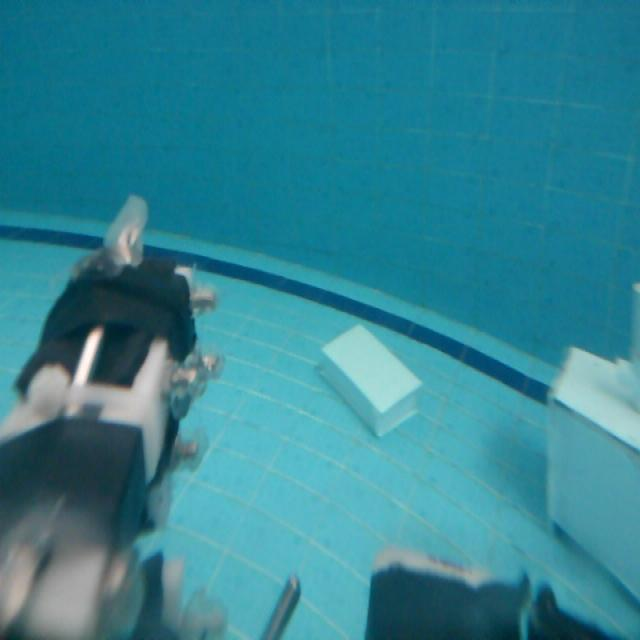Cube: (542, 343, 640, 605)
Cuboid: (317, 320, 423, 437)
